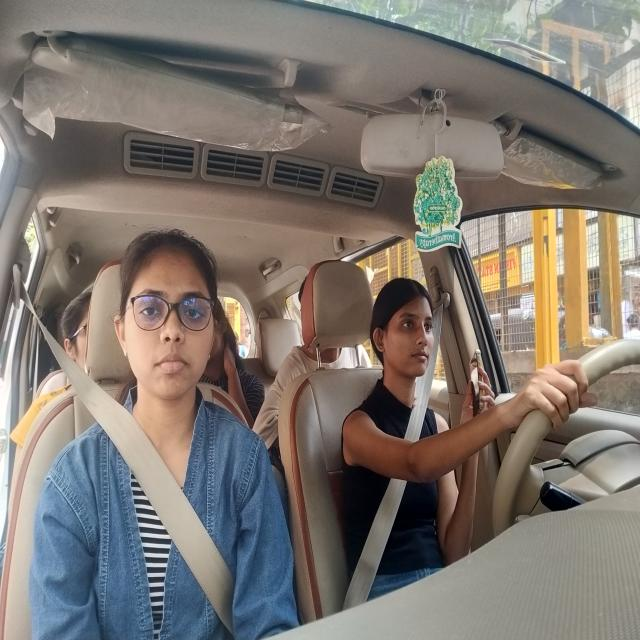mobile: (467, 342, 493, 426)
person: (115, 231, 215, 408), (369, 277, 439, 382), (60, 287, 94, 376), (206, 290, 237, 376)
